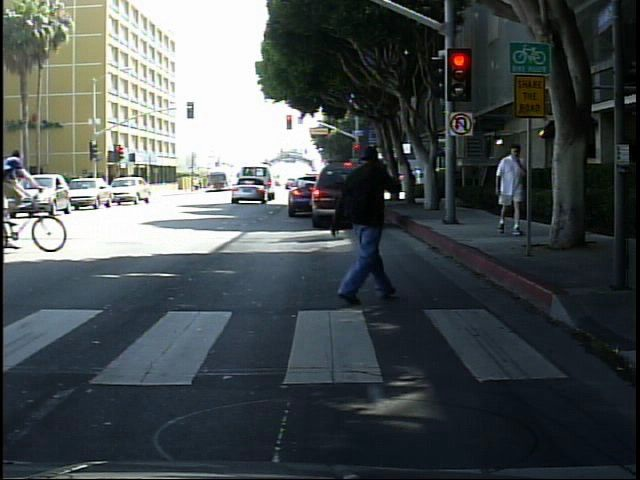person: (317, 129, 408, 319), (0, 138, 59, 244), (492, 141, 532, 238), (560, 138, 594, 245)
